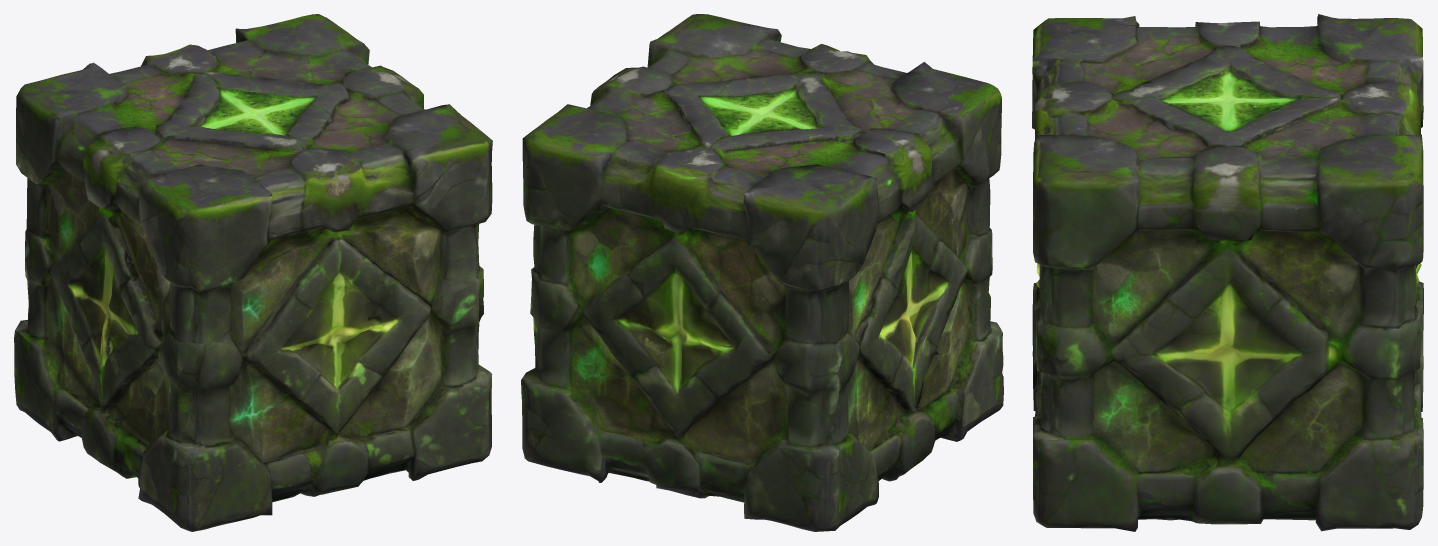
File: DungeonCube.fbx
The picture shows the model from 3 angles, left to right: view 1: azimuth 30°, elevation 25°; view 2: azimuth 150°, elevation 25°; view 3: azimuth 270°, elevation 25°; orthographic projection. The views are drawn at different scales.
Visible parts, largest first — view 1: Mesh1.0; view 2: Mesh1.0; view 3: Mesh1.0.
Boxes of the visible parts, box(x1,y1,x2,y2) form: Mesh1.0: box(14, 14, 492, 531); Mesh1.0: box(521, 14, 1003, 531); Mesh1.0: box(1032, 14, 1423, 531).
Size of the model in its own units: 198 by 196 by 196.
1 material, 1 textured.
